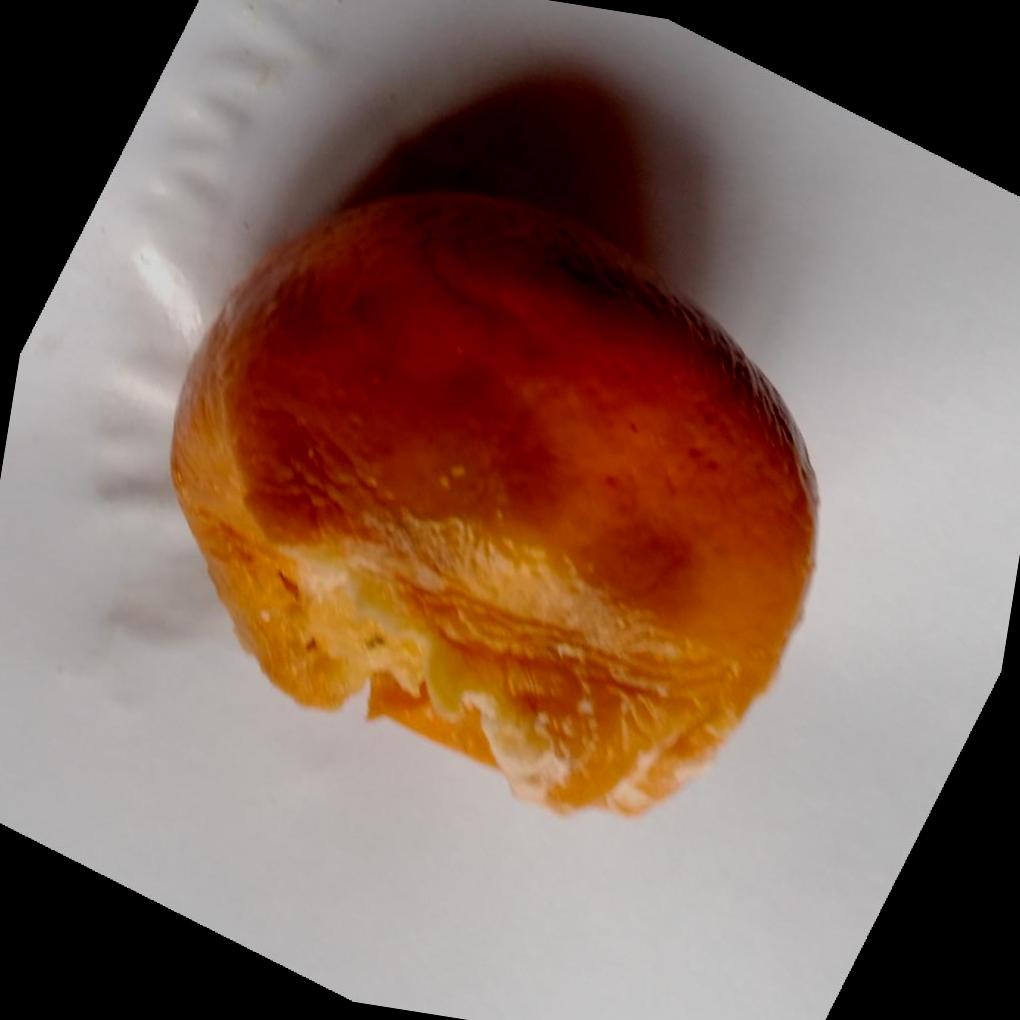FreshOrange: (163, 184, 816, 820)
